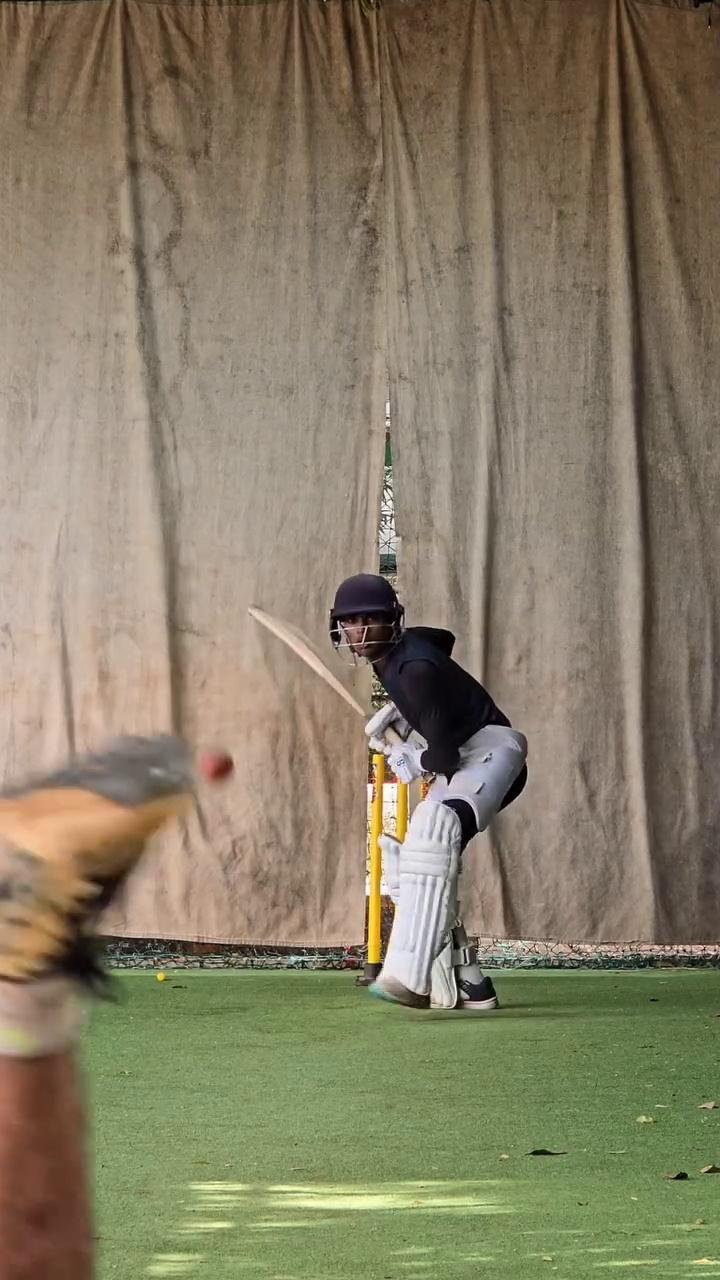bat: (241, 584, 386, 724)
